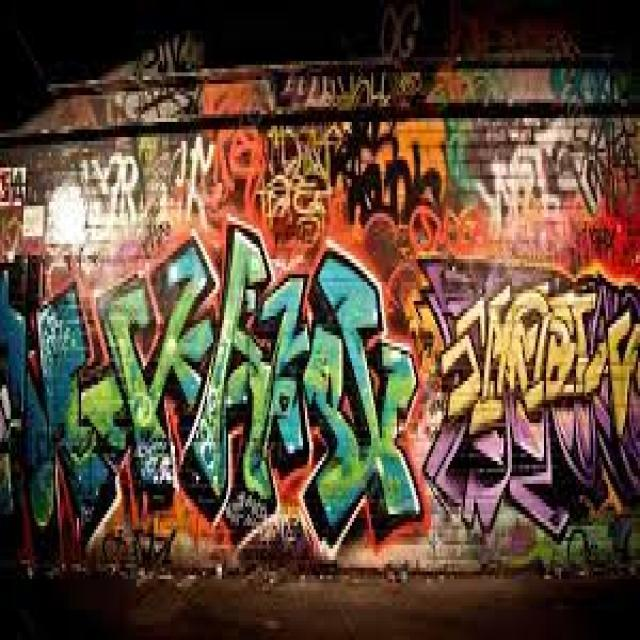-: (0, 221, 420, 548), (97, 15, 639, 246), (420, 258, 640, 538)
